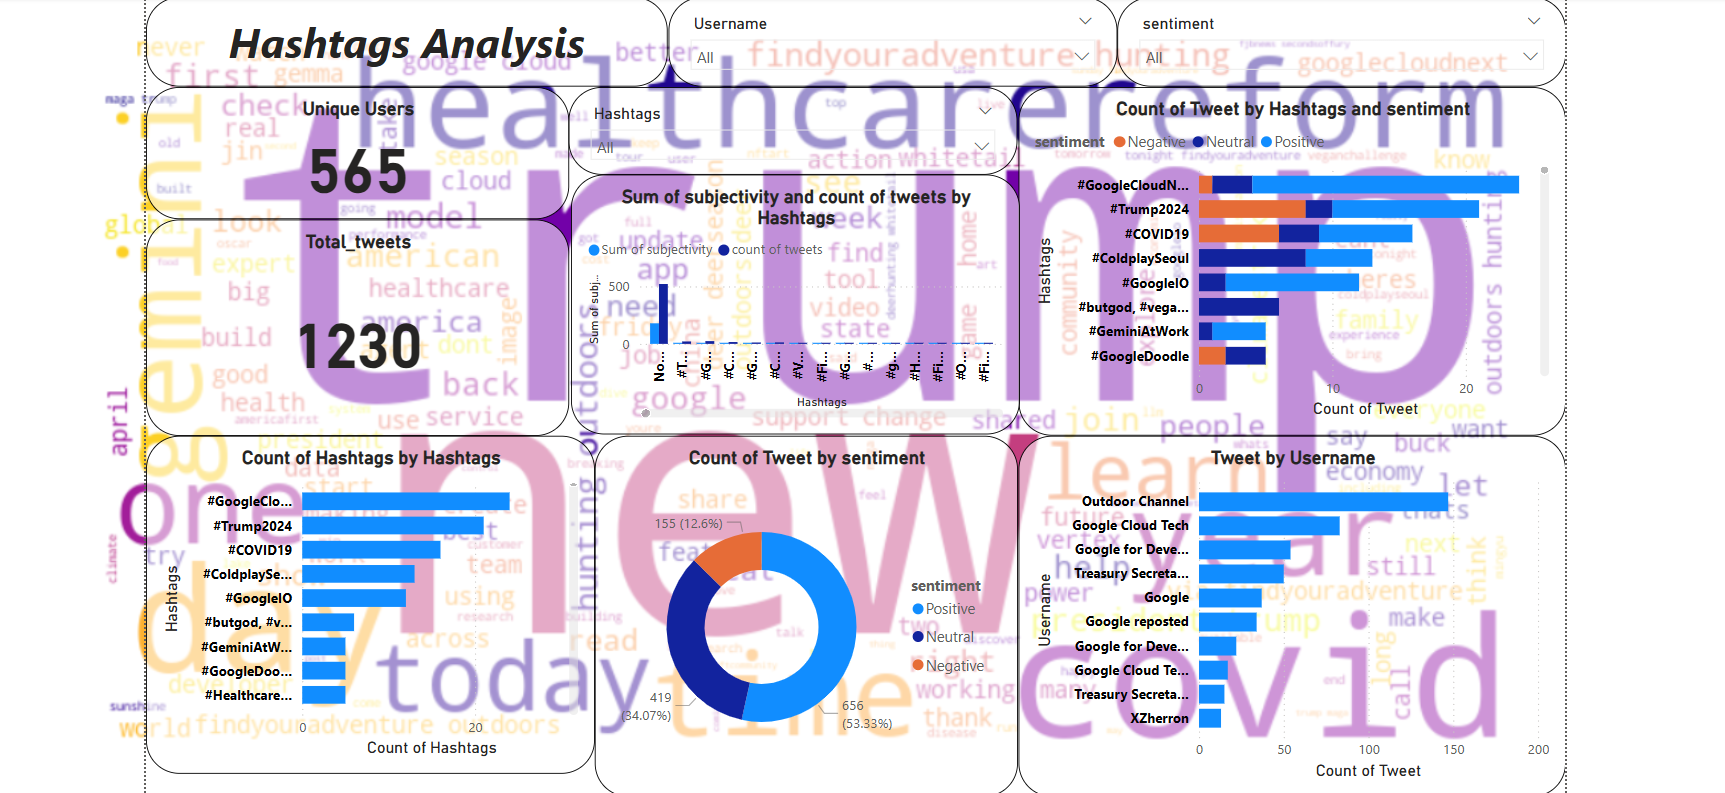

This screenshot's page, from the dashboard's own definition file:
{"tool":"powerbi","page":{"name":"Page 1","canvas":[1280,720],"ordinal":0},"visuals":[{"type":"donutChart","fields":{"Y":["social.Tweet"],"Category":["social.sentiment"]},"box":[404.8,395.2,381.5,325.2],"z":0},{"type":"barChart","title":"Tweet by Username","fields":{"Category":["social.Username"],"Y":["social.Tweet"]},"box":[786.3,395.2,494,325.2],"z":1},{"type":"barChart","fields":{"Category":["social.Hashtags"],"Y":["social.Hashtags"]},"box":[0,395.2,404.8,304.6],"z":2},{"type":"barChart","fields":{"Category":["social.Hashtags"],"Series":["social.sentiment"],"Y":["social.Tweet"]},"box":[786.3,81,494,314.2],"z":3},{"type":"slicer","fields":{"Values":["social.sentiment"]},"box":[875.5,0,404.8,81],"z":4},{"type":"slicer","fields":{"Values":["social.Username"]},"box":[470.7,0,404.8,81],"z":5},{"type":"slicer","fields":{"Values":["social.Hashtags"]},"box":[381.5,81,404.8,79.6],"z":6},{"type":"card","title":"Unique Users","fields":{"Values":["social.Unique_users"]},"box":[0,81,381.5,119.4],"z":7},{"type":"card","title":"Total_tweets","fields":{"Values":["social.count of tweets"]},"box":[0,200.3,381.5,194.9],"z":8},{"type":"textbox","box":[0,0,470.7,81],"z":9},{"type":"clusteredColumnChart","fields":{"Category":["social.Hashtags"],"Y":["social.subjectivity","social.count of tweets"]},"box":[382.8,160.5,404.8,234.6],"z":10}]}

Visuals, with their boxes in screenshot pixels (x1, y1, x2, y2):
donutChart - social.Tweet x social.sentiment: <box>583,437,1014,792</box>
"Tweet by Username" barChart: <box>1014,437,1571,792</box>
barChart - social.Hashtags x social.Hashtags: <box>126,437,583,781</box>
barChart - social.Hashtags x social.sentiment: <box>1014,82,1571,437</box>
slicer - social.sentiment: <box>1114,0,1571,82</box>
slicer - social.Username: <box>657,0,1114,82</box>
slicer - social.Hashtags: <box>557,82,1014,172</box>
"Unique Users" card: <box>126,82,557,217</box>
"Total_tweets" card: <box>126,217,557,437</box>
textbox: <box>126,0,657,82</box>
clusteredColumnChart - social.Hashtags x social.subjectivity: <box>558,172,1015,437</box>
